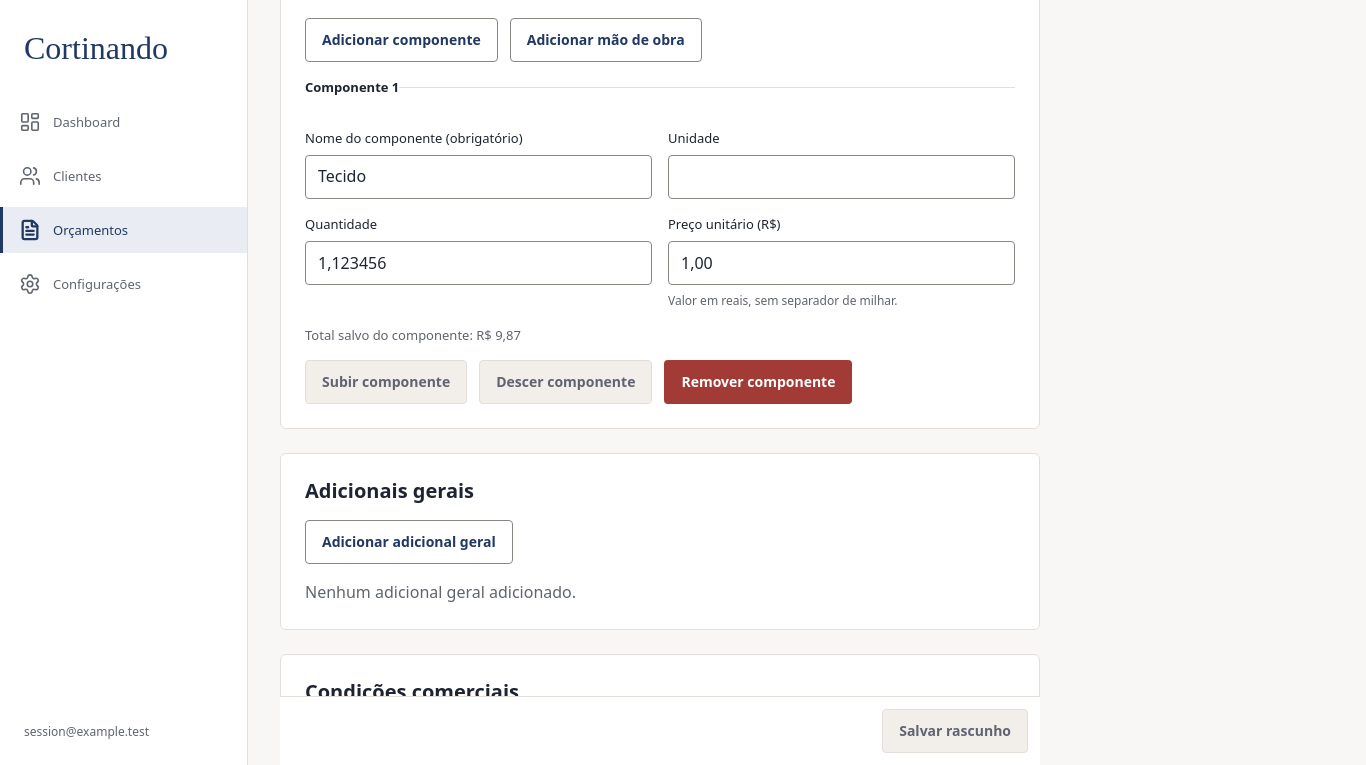
Test: PATCH clears only the removed components collection while keeping curtain identity
The image size is (1366, 765).
(page scrolled)
What coordinates should you click on to do the following:
click the button "Remover componente"
I would click on:
 (758, 382)
Its box is [664, 360, 852, 404].
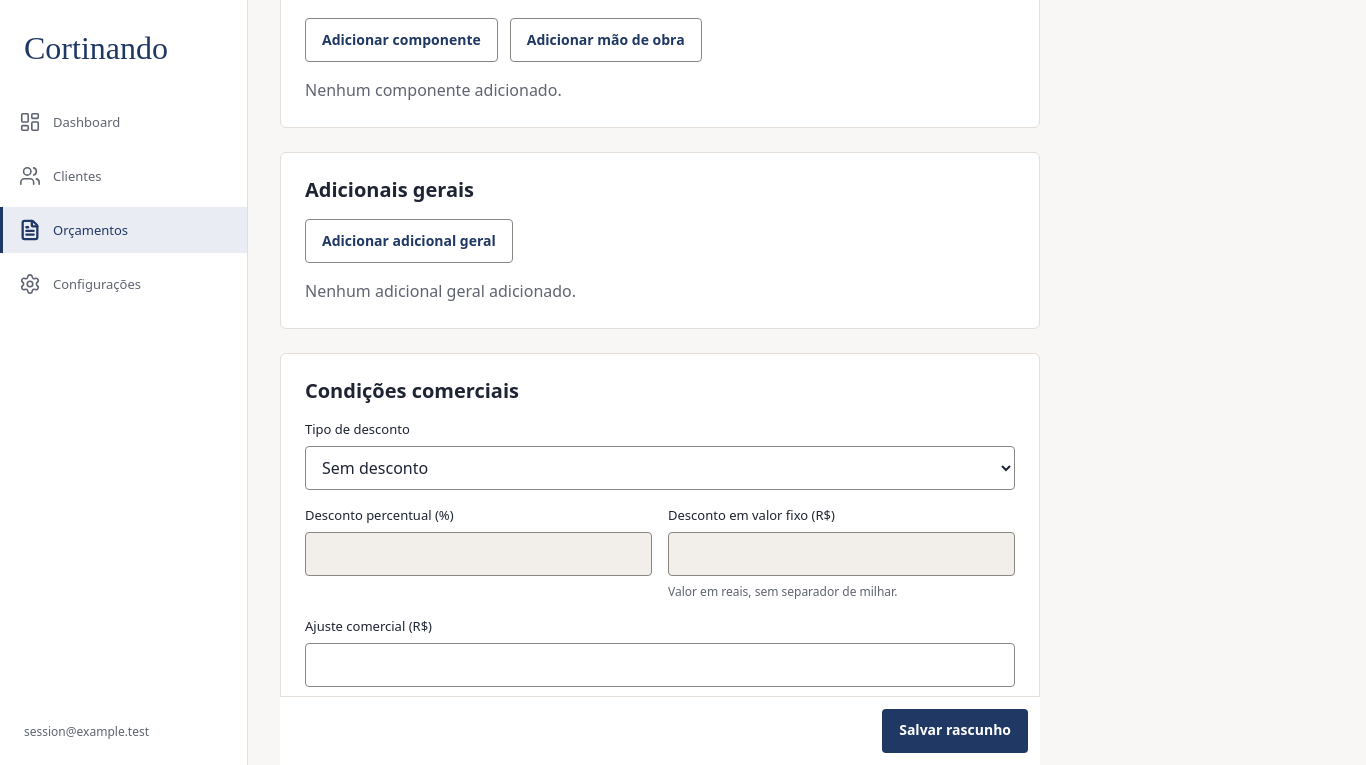
What coordinates should you click on to do the following:
click the button "Salvar rascunho"
I would click on:
 (955, 731)
Its box is [882, 709, 1028, 753].
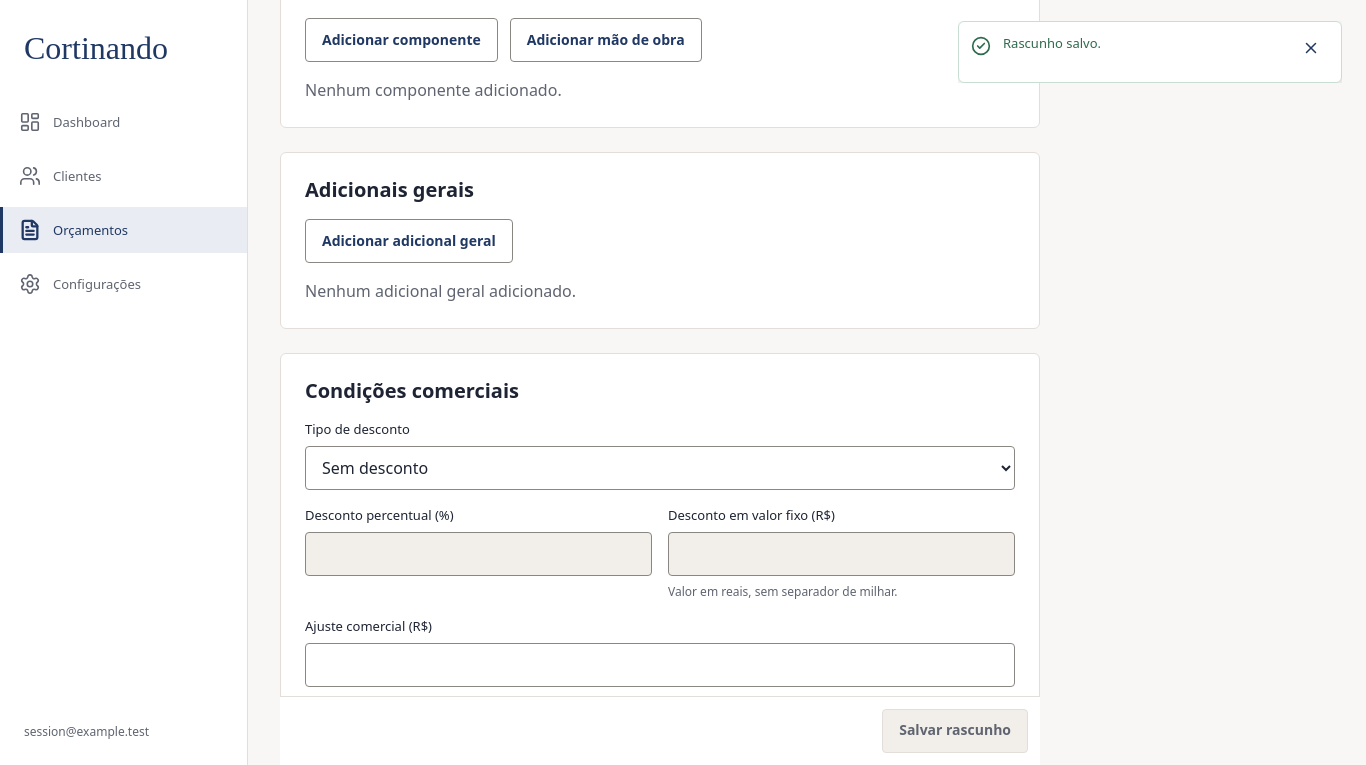
Expected: the text "Nenhum componente adicionado." is shown, [305, 79, 562, 101]
Expected: the text "Rascunho salvo." is shown, [1003, 34, 1101, 52]
